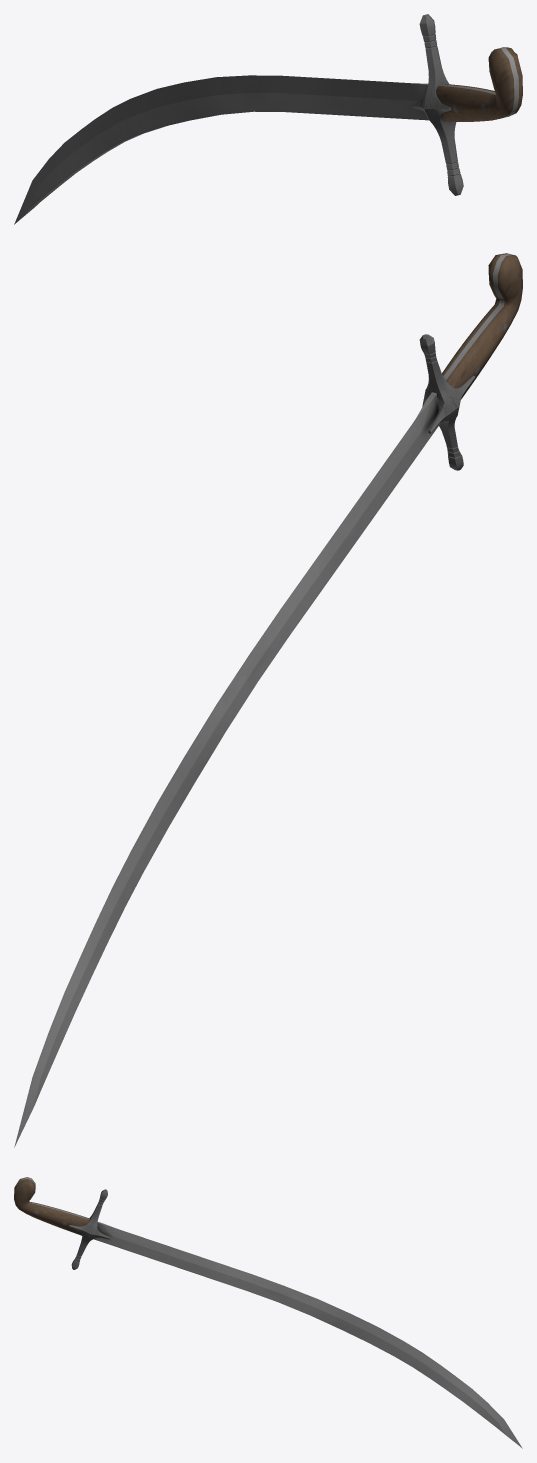
The model's file is Blade_Scimitar.glb.
3 views of the same model, one above another, from view 1: azimuth 30°, elevation 25°; view 2: azimuth 150°, elevation 25°; view 3: azimuth 270°, elevation 25° (orthographic). The views are drawn at different scales.
Visible parts, largest first — view 1: Plane002_02 - Default_0, Plane002_01 - Default_0; view 2: Plane002_02 - Default_0, Plane002_01 - Default_0; view 3: Plane002_02 - Default_0, Plane002_01 - Default_0.
Boxes of the visible parts, <box> form: Plane002_02 - Default_0: <box>14,47,519,224</box>; Plane002_01 - Default_0: <box>412,14,522,195</box>; Plane002_02 - Default_0: <box>14,253,512,1147</box>; Plane002_01 - Default_0: <box>419,253,522,470</box>; Plane002_02 - Default_0: <box>14,1177,522,1448</box>; Plane002_01 - Default_0: <box>14,1177,110,1269</box>.
Size of the model in its own units: 0.038 by 0.5575 by 0.95.
Materials: 2 (2 with a texture image).
